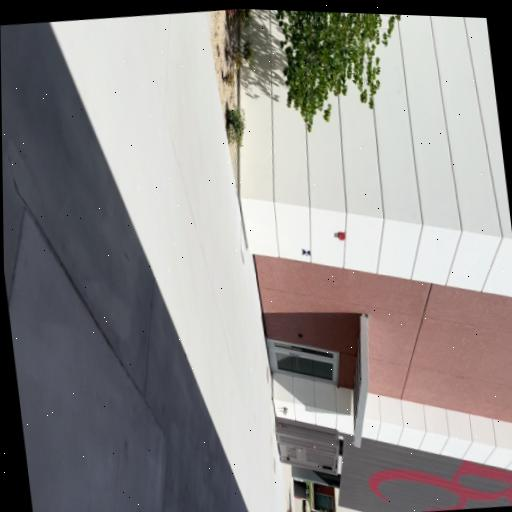target9: (303, 248, 310, 258)
